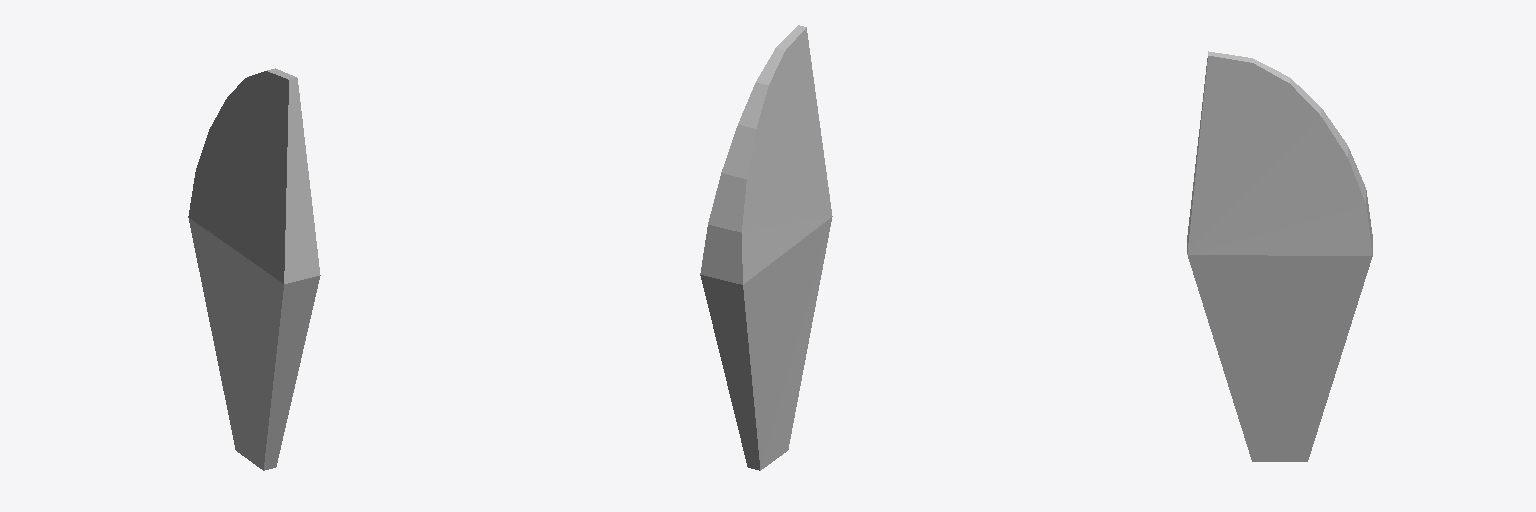
Rendered from shark.obj.
3 renders of one model, left to right at view 1: azimuth 30°, elevation 25°; view 2: azimuth 150°, elevation 25°; view 3: azimuth 270°, elevation 25°, orthographic.
Visible parts, largest first — view 1: Cube_Cube.001; view 2: Cube_Cube.001; view 3: Cube_Cube.001.
Boxes of the visible parts, x1,y1,x2,y2 form: Cube_Cube.001: [188, 68, 320, 470]; Cube_Cube.001: [700, 25, 832, 470]; Cube_Cube.001: [1187, 51, 1372, 461].
Bounding box in the file's own units: 0.532 × 4.84 × 2.